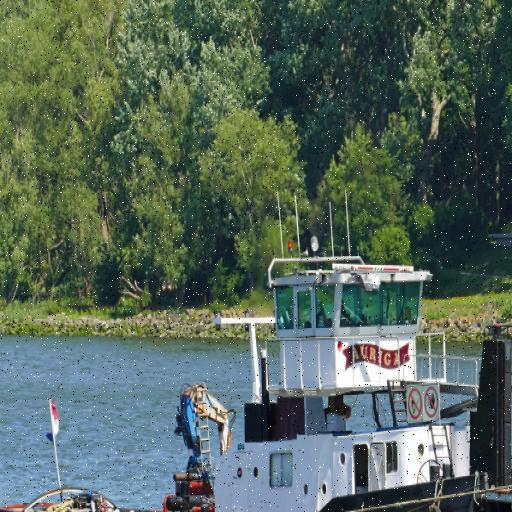tugboat: (1, 243, 512, 512)
